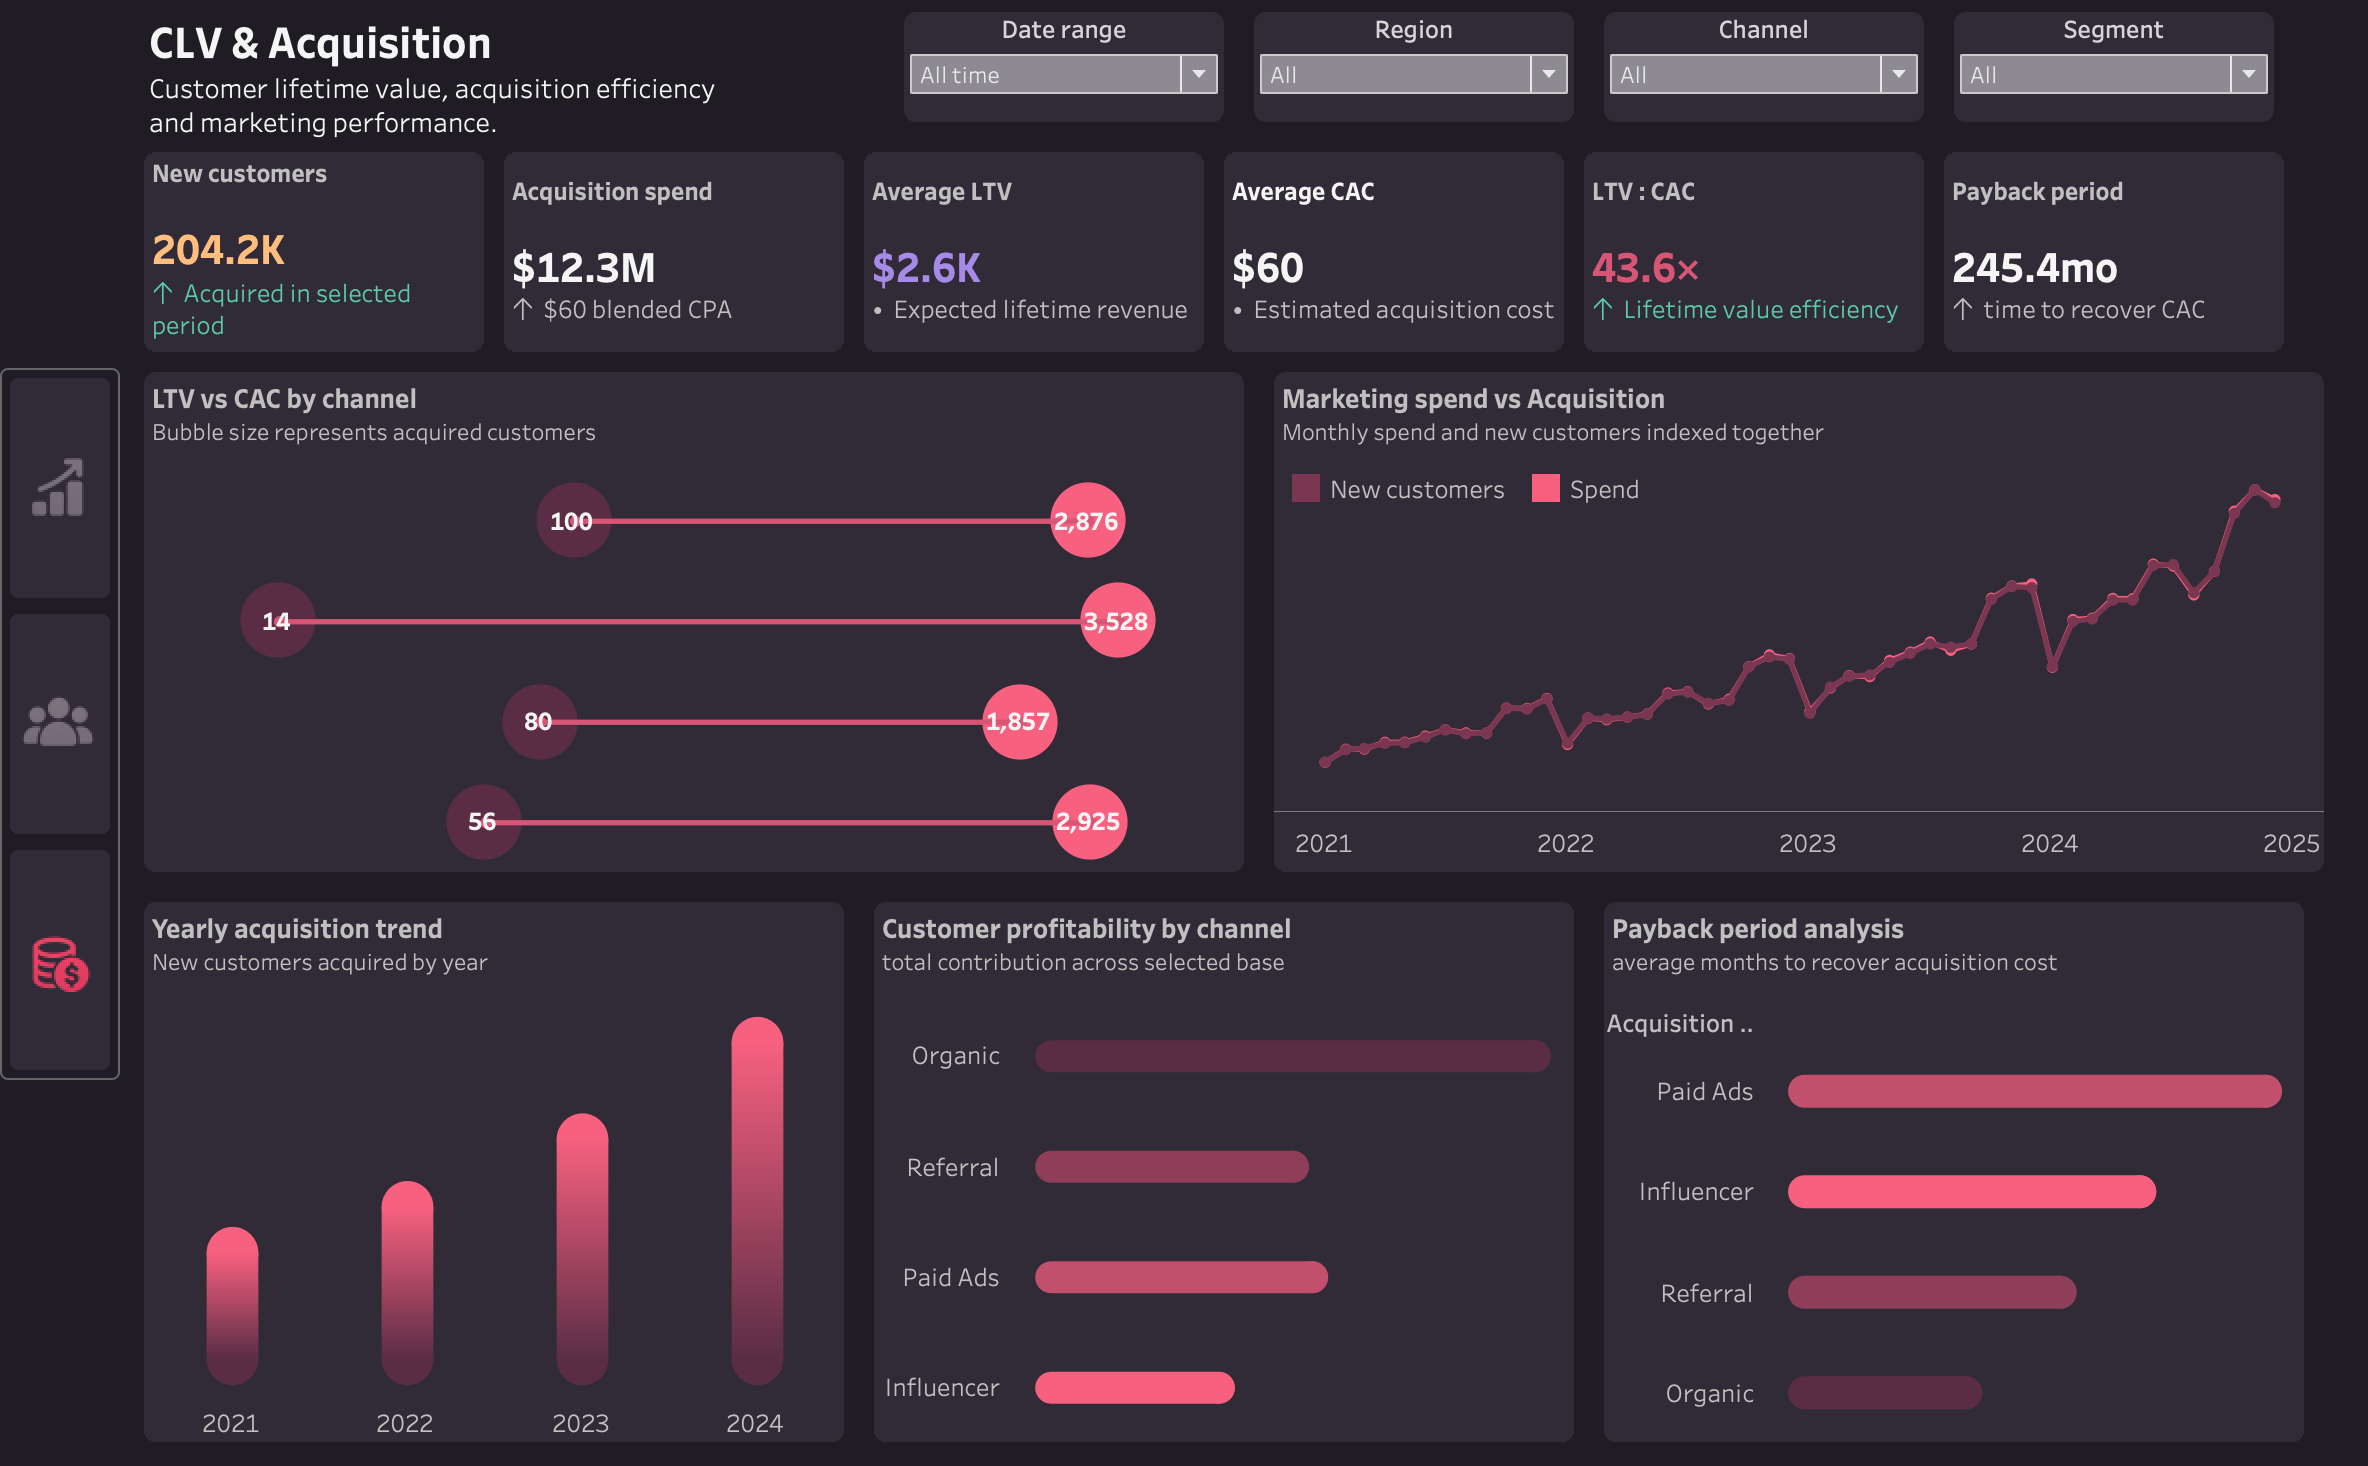

The page's visual inventory and layout, read from the dashboard file:
{"tool":"tableau","page":{"name":"CLV & acquisition","canvas":[1200,750],"ordinal":0},"visuals":[{"type":"text","box":[80,15,359,65]},{"type":"parameter","param":"[Parameters].[Parameter 0047692799320069]","box":[460,15,160,55]},{"type":"parameter","param":"[Parameters].[Parameter 4272153822924800]","box":[635,15,160,55]},{"type":"parameter","param":"[Parameters].[Parameter 4272153830629382]","box":[810,15,160,55]},{"type":"parameter","param":"[Parameters].[Parameter 4272153834737676]","box":[985,15,160,55]},{"type":"worksheet","title":"01_kpi_new_customers","mark":"Automatic","box":[80,85,170,100]},{"type":"worksheet","title":"02_acquisition_spend","mark":"Automatic","box":[260,85,170,100]},{"type":"worksheet","title":"03_kpi_avg_ltv","mark":"Text","box":[440,85,170,100]},{"type":"worksheet","title":"04_kpi_avg_cac","mark":"Text","box":[620,85,170,100]},{"type":"worksheet","title":"05_kpi_ltv:cac","mark":"Text","box":[800,85,170,100]},{"type":"worksheet","title":"06_kpi_paybackmo","mark":"Text","box":[980,85,170,100]},{"type":"dashboard-object","box":[9,194,58,118]},{"type":"worksheet","title":"07_LTV_vs_CAC","mark":"Automatic","rows":["ACQUISITION_CHANNEL"],"box":[80,195,550,250]},{"type":"worksheet","title":"08_marketing_spend_vs_acquisition","mark":"Line","cols":["ACQUISITION_MONTH"],"box":[645,195,525,250]},{"type":"legend","title":"08_marketing_spend_vs_acquisition","param":"[federated.0jnnm4f0vjagw4172n1px0xfayjx].[:Measure Names]","box":[651,243,319,58]},{"type":"dashboard-object","box":[9,312,58,118]},{"type":"dashboard-object","box":[9,430,58,118]},{"type":"worksheet","title":"09_yearly_acquisition_trend","mark":"Line","cols":["ACQUISITION_MONTH"],"box":[80,460,350,270]},{"type":"worksheet","title":"10_customer_profitability_by_channel","mark":"Line","rows":["ACQUISITION_CHANNEL"],"box":[445,460,350,270]},{"type":"worksheet","title":"11_payback_period","mark":"Line","rows":["ACQUISITION_CHANNEL"],"box":[810,460,350,270]}]}

Visuals, with their boxes in screenshot pixels (x1, y1, x2, y2), scaled from the page's 1200x750 canvas onto the 2368x1466 screenshot:
text: [x1=158, y1=29, x2=866, y2=156]
parameter: [x1=908, y1=29, x2=1223, y2=137]
parameter: [x1=1253, y1=29, x2=1569, y2=137]
parameter: [x1=1598, y1=29, x2=1914, y2=137]
parameter: [x1=1944, y1=29, x2=2259, y2=137]
"01_kpi_new_customers" worksheet: [x1=158, y1=166, x2=493, y2=362]
"02_acquisition_spend" worksheet: [x1=513, y1=166, x2=849, y2=362]
"03_kpi_avg_ltv" worksheet (Text marks): [x1=868, y1=166, x2=1204, y2=362]
"04_kpi_avg_cac" worksheet (Text marks): [x1=1223, y1=166, x2=1559, y2=362]
"05_kpi_ltv:cac" worksheet (Text marks): [x1=1579, y1=166, x2=1914, y2=362]
"06_kpi_paybackmo" worksheet (Text marks): [x1=1934, y1=166, x2=2269, y2=362]
dashboard-object: [x1=18, y1=379, x2=132, y2=610]
"07_LTV_vs_CAC" worksheet: [x1=158, y1=381, x2=1243, y2=870]
"08_marketing_spend_vs_acquisition" worksheet (Line marks): [x1=1273, y1=381, x2=2309, y2=870]
"08_marketing_spend_vs_acquisition" legend: [x1=1285, y1=475, x2=1914, y2=588]
dashboard-object: [x1=18, y1=610, x2=132, y2=841]
dashboard-object: [x1=18, y1=841, x2=132, y2=1071]
"09_yearly_acquisition_trend" worksheet (Line marks): [x1=158, y1=899, x2=849, y2=1427]
"10_customer_profitability_by_channel" worksheet (Line marks): [x1=878, y1=899, x2=1569, y2=1427]
"11_payback_period" worksheet (Line marks): [x1=1598, y1=899, x2=2289, y2=1427]
